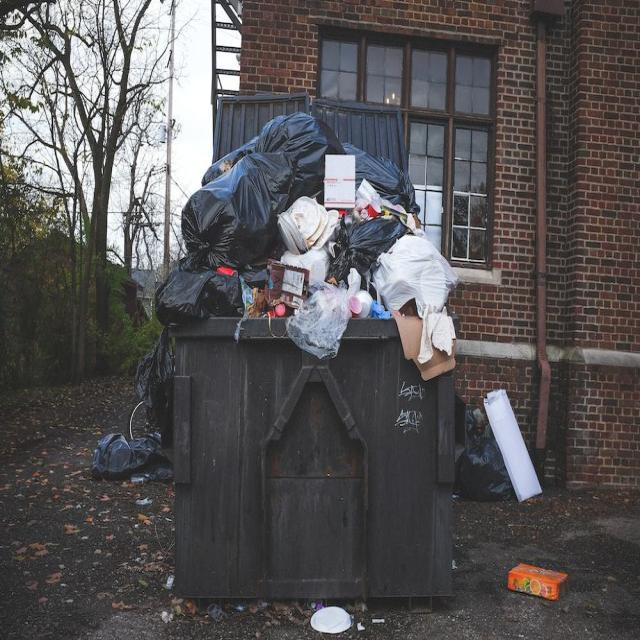cardboard: (502, 549, 573, 611)
paper: (478, 380, 546, 515)
trash: (161, 118, 449, 342), (95, 420, 167, 498), (128, 328, 178, 418)
